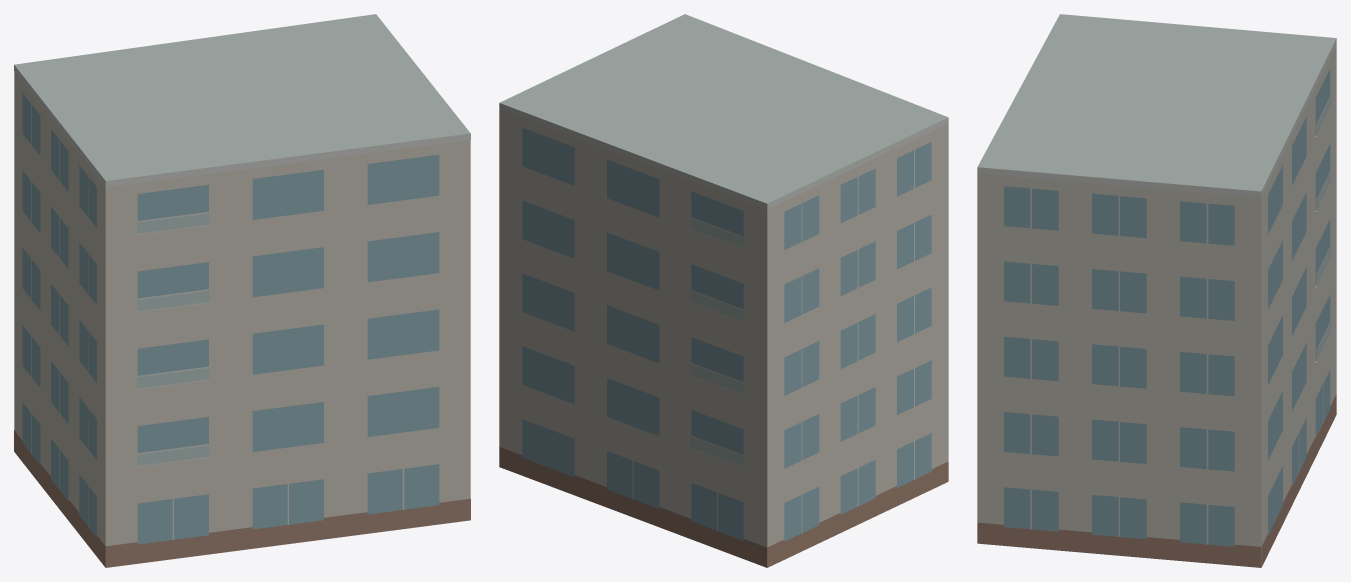
Rendered from survey-upis-32719224.glb.
3 renders of one model, left to right at view 1: azimuth 30°, elevation 25°; view 2: azimuth 150°, elevation 25°; view 3: azimuth 270°, elevation 25°, orthographic. The views are drawn at different scales.
Parts seen in each view (by area): view 1: survey-upis-32719224.tmp; view 2: survey-upis-32719224.tmp; view 3: survey-upis-32719224.tmp.
Part boxes in pixels (x1,y1,x2,y2): survey-upis-32719224.tmp: [14, 14, 470, 567]; survey-upis-32719224.tmp: [499, 14, 948, 567]; survey-upis-32719224.tmp: [977, 14, 1336, 567].
Size of the model in its own units: 14.73 by 14.55 by 12.6.
